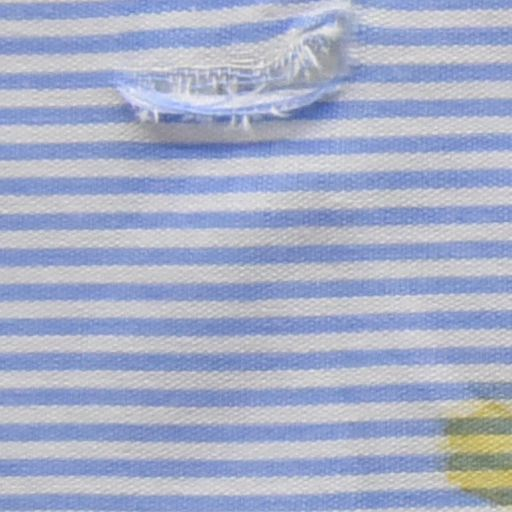defect: (88, 1, 356, 143), (438, 412, 512, 512)
